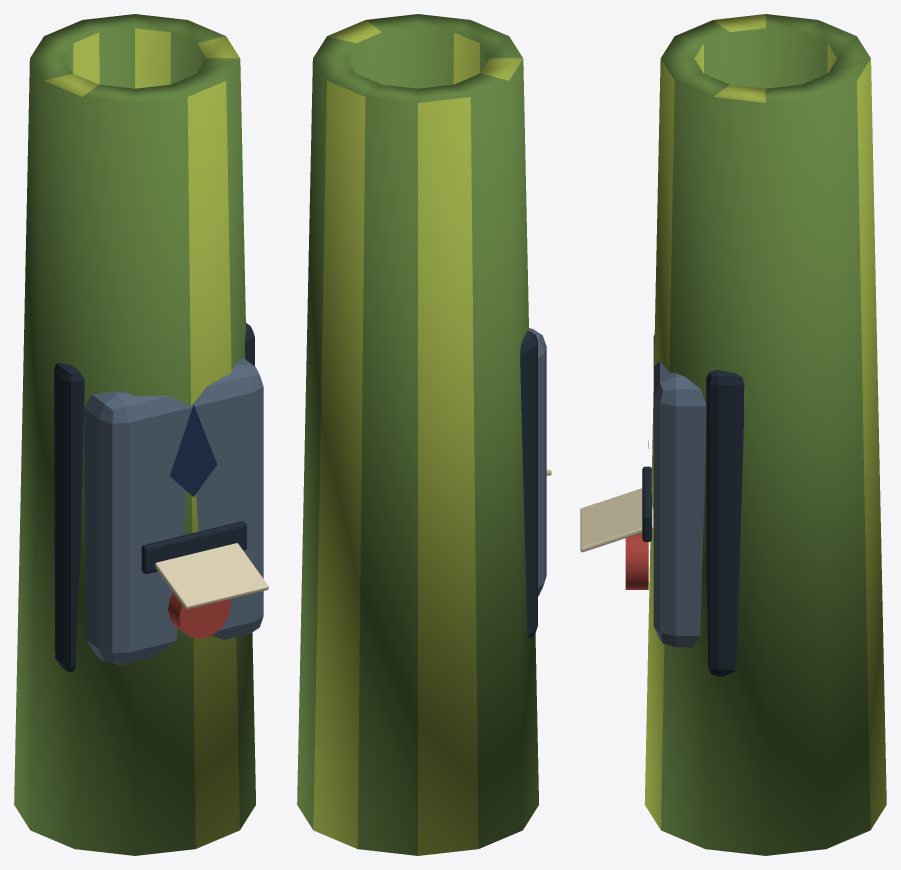
The model's file is soup_punch.glb.
3 views of the same model, side by side, from view 1: azimuth 30°, elevation 25°; view 2: azimuth 150°, elevation 25°; view 3: azimuth 270°, elevation 25° (orthographic).
Visible parts, largest first — view 1: soup_punch_Palette; view 2: soup_punch_Palette; view 3: soup_punch_Palette.
Boxes of the visible parts, box(x1,y1,x2,y2) form: soup_punch_Palette: box(14, 14, 268, 855); soup_punch_Palette: box(297, 14, 551, 855); soup_punch_Palette: box(580, 14, 886, 855).
Size of the model in its own units: 0.529 by 1.8 by 0.6702.
